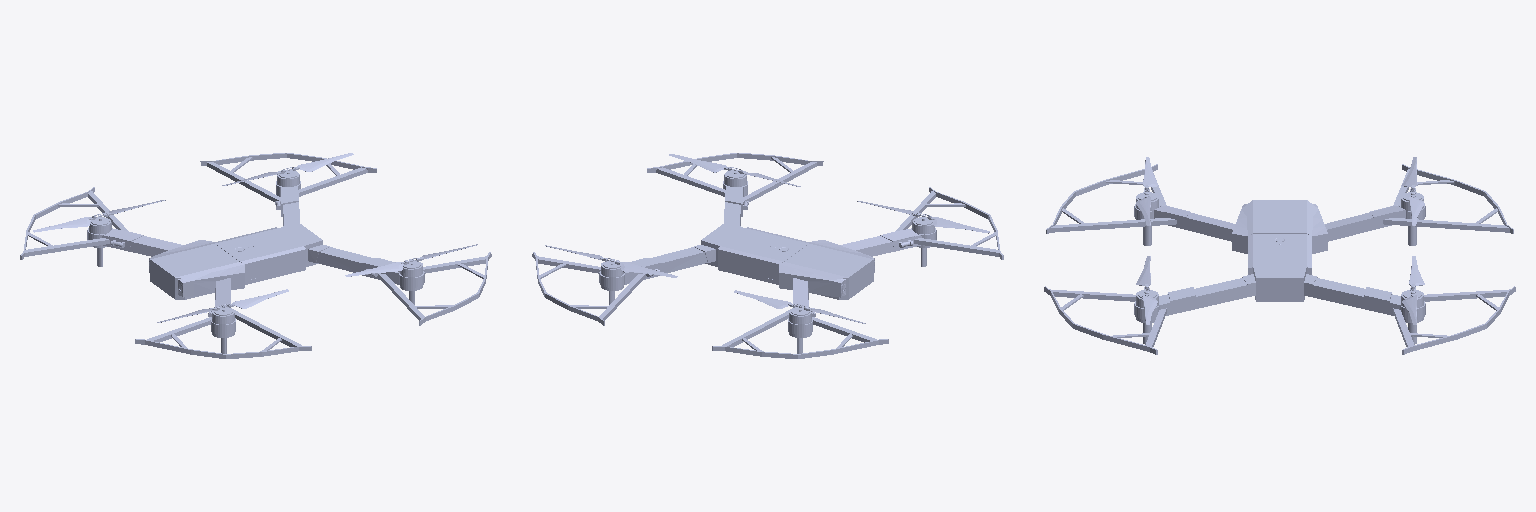
URDF robot description (ebot):
<?xml version="1.0"?>
<!--  
  Project Name: ebot 
  Created on:   2.10.2020
  Author: ROS team
  Copyright (c) 2020 eYantra IITB 
-->
<robot name="ebot" xmlns:xacro="http://www.ros.org/wiki/xacro">

	 <link
    name="drone_base">
    <inertial>
      <origin
   xyz="0 0.0 0.12"
        rpy="0 0 0" />
      <mass
        value="1.2" />
    <!--   <inertia
        ixx="0.0077465"
        ixy="0.0005698"
        ixz="0.0049745"
        iyy="0.03055"
        iyz="-4.0532E-05"
        izz="0.030588" /> -->
         <inertia ixx="0.356" ixy="0" ixz="0" iyy="0.9443" iyz="0" izz="1.008"/>
    </inertial>
    <visual>
      <origin
        xyz="0 0 0"
        rpy="0 0 0" />
      <geometry>
        <mesh
          filename="package://drone_gazebo/mesh/nopro_drone.stl" scale="0.5 0.5 0.5" />
      </geometry>
      <material
        name="">
        <color
          rgba="0.79216 0.81961 0.93333 1" />
      </material>
    </visual>
    <collision>
    <origin
        xyz="0 0.0 0.12"
        rpy="0 0 0" />
      <geometry>
     <box size="0.585 0.30 0.25"/>
      </geometry>
    </collision>
  </link>

      <!-- Prop one joint  -->

  	  <link name="prop1">
    		<inertial>
			  <origin
			    xyz="0 0 0"
			    rpy="0 0 0" />
			  <mass
			    value="0.1" />
			 <!--  <inertia
			    ixx="0.0012203"
			    ixy="-1.8327E-07"
			    ixz="1.356E-08"
			    iyy="0.0022215"
			    iyz="3.3883E-09"
			    izz="0.001221" /> -->
          			<inertia ixx="0.003" ixy="0" ixz="0" iyy="0.0030" iyz="0" izz="0.0035"/>
    		</inertial>
    <visual>
      <origin
        xyz="0 0 0"
        rpy="0 0 0" />
	      <geometry>
	        <mesh
	          filename="package://drone_gazebo/mesh/prop_ccw.stl" scale="3.5 3.5 3.5" />
	      </geometry>
	      <material
	        name="">
	        <color
	          rgba="0.79216 0.81961 0.93333 1" />
	      </material>
    </visual>
    <collision>
		  <origin
		     xyz="0 0 0"
		    rpy="1.57 1.57 0" />
		  <geometry>
		     <cylinder length="0.05" radius="0.1"/>
		  </geometry>
    </collision>
  </link>
  <joint
    name="prop_base_one"
    type="continuous">
    <origin
      xyz="2.27 1.975 0.67"
      rpy="0 0 0" />
    <parent
      link="drone_base" />
    <child
      link="prop1" />
    <axis
      xyz="0 0 1" />
  </joint>
    <!-- end prop one -->



    <!-- Prop TWO joint  -->

      <link name="prop2">
        <inertial>
        <origin
          xyz="0 0 0"
          rpy="0 0 0" />
        <mass
          value="0.1" />
       <!--  <inertia
          ixx="0.0012203"
          ixy="-1.8327E-07"
          ixz="1.356E-08"
          iyy="0.0022215"
          iyz="3.3883E-09"
          izz="0.001221" /> -->
                <inertia ixx="0.003" ixy="0" ixz="0" iyy="0.0030" iyz="0" izz="0.0035"/>
        </inertial>
    <visual>
      <origin
        xyz="0 0 0"
        rpy="0 0 0" />
        <geometry>
          <mesh
            filename="package://drone_gazebo/mesh/prop.stl" scale="3.5 3.5 3.5" />
        </geometry>
        <material
          name="">
          <color
            rgba="0.79216 0.81961 0.93333 1" />
        </material>
    </visual>
    <collision>
      <origin
         xyz="0 0 0"
        rpy="1.57 1.57 0" />
      <geometry>
         <cylinder length="0.05" radius="0.1"/>
      </geometry>
    </collision>
  </link>
  <joint
    name="prop_base_two"
    type="continuous">
    <origin
      xyz="2.27 -1.975 0.67"
      rpy="0 0 0" />
    <parent
      link="drone_base" />
    <child
      link="prop2" />
    <axis
      xyz="0 0 -1" />
  </joint>
    <!-- end prop two -->



    <!-- Prop three joint  -->

      <link name="prop3">
        <inertial>
        <origin
          xyz="0 0 0"
          rpy="0 0 0" />
        <mass
          value="0.1" />
       <!--  <inertia
          ixx="0.0012203"
          ixy="-1.8327E-07"
          ixz="1.356E-08"
          iyy="0.0022215"
          iyz="3.3883E-09"
          izz="0.001221" /> -->
                <inertia ixx="0.003" ixy="0" ixz="0" iyy="0.0030" iyz="0" izz="0.0035"/>
        </inertial>
    <visual>
      <origin
        xyz="0 0 0"
        rpy="0 0 0" />
        <geometry>
          <mesh
            filename="package://drone_gazebo/mesh/prop_ccw.stl" scale="3.5 3.5 3.5" />
        </geometry>
        <material
          name="">
          <color
            rgba="0.79216 0.81961 0.93333 1" />
        </material>
    </visual>
    <collision>
      <origin
         xyz="0 0 0"
        rpy="1.57 1.57 0" />
      <geometry>
         <cylinder length="0.05" radius="0.1"/>
      </geometry>
    </collision>
  </link>
  <joint
    name="prop_base_three"
    type="continuous">
    <origin
      xyz="-1.2 -1.975 0.67"
      rpy="0 0 0" />
    <parent
      link="drone_base" />
    <child
      link="prop3" />
    <axis
      xyz="0 0 1" />
  </joint>
    <!-- end prop three -->





    <!-- Prop TWO joint  -->

      <link name="prop4">
        <inertial>
        <origin
          xyz="0 0 0"
          rpy="0 0 0" />
        <mass
          value="0.1" />
       <!--  <inertia
          ixx="0.0012203"
          ixy="-1.8327E-07"
          ixz="1.356E-08"
          iyy="0.0022215"
          iyz="3.3883E-09"
          izz="0.001221" /> -->
                <inertia ixx="0.003" ixy="0" ixz="0" iyy="0.0030" iyz="0" izz="0.0035"/>
        </inertial>
    <visual>
      <origin
        xyz="0 0 0"
        rpy="0 0 0" />
        <geometry>
          <mesh
            filename="package://drone_gazebo/mesh/prop.stl" scale="3.5 3.5 3.5" />
        </geometry>
        <material
          name="">
          <color
            rgba="0.79216 0.81961 0.93333 1" />
        </material>
    </visual>
    <collision>
      <origin
         xyz="0 0 0"
        rpy="1.57 1.57 0" />
      <geometry>
         <cylinder length="0.05" radius="0.1"/>
      </geometry>
    </collision>
  </link>
  <joint
    name="prop_base_four"
    type="continuous">
    <origin
      xyz="-1.2 1.975 0.67"
      rpy="0 0 0" />
    <parent
      link="drone_base" />
    <child
      link="prop4" />
    <axis
      xyz="0 0 -1" />
  </joint>
    <!-- end prop two -->


</robot>

--- Facts derived from the render (not from the file) ---
3 views of the same robot in one strip: view 1: azimuth 30°, elevation 25°; view 2: azimuth 150°, elevation 25°; view 3: azimuth 270°, elevation 25° (orthographic).
Model ebot with 5 links and 4 joints (4 continuous), rooted at drone_base, posed all joints at 0.
Links seen in each view (by area): view 1: drone_base, prop2, prop3, prop4, prop1; view 2: drone_base, prop4, prop1, prop3, prop2; view 3: drone_base, prop1, prop3, prop4, prop2.
Boxes of the visible links, x1,y1,x2,y2 form: drone_base: (20,153,491,358); prop2: (345,244,477,276); prop3: (157,289,288,322); prop4: (33,200,165,232); prop1: (222,153,353,185); drone_base: (532,153,1003,358); prop4: (734,290,865,323); prop1: (545,245,677,277); prop3: (857,201,989,233); prop2: (669,154,800,186); drone_base: (1044,164,1515,354); prop1: (1402,256,1424,324); prop3: (1136,157,1157,225); prop4: (1402,157,1424,225); prop2: (1136,256,1157,324).
Bounding box of the posed robot: 6.55 × 6.99 × 0.8992 m (x, y, z).
5 mesh visuals loaded from 3 distinct referenced files (3 binary STL).